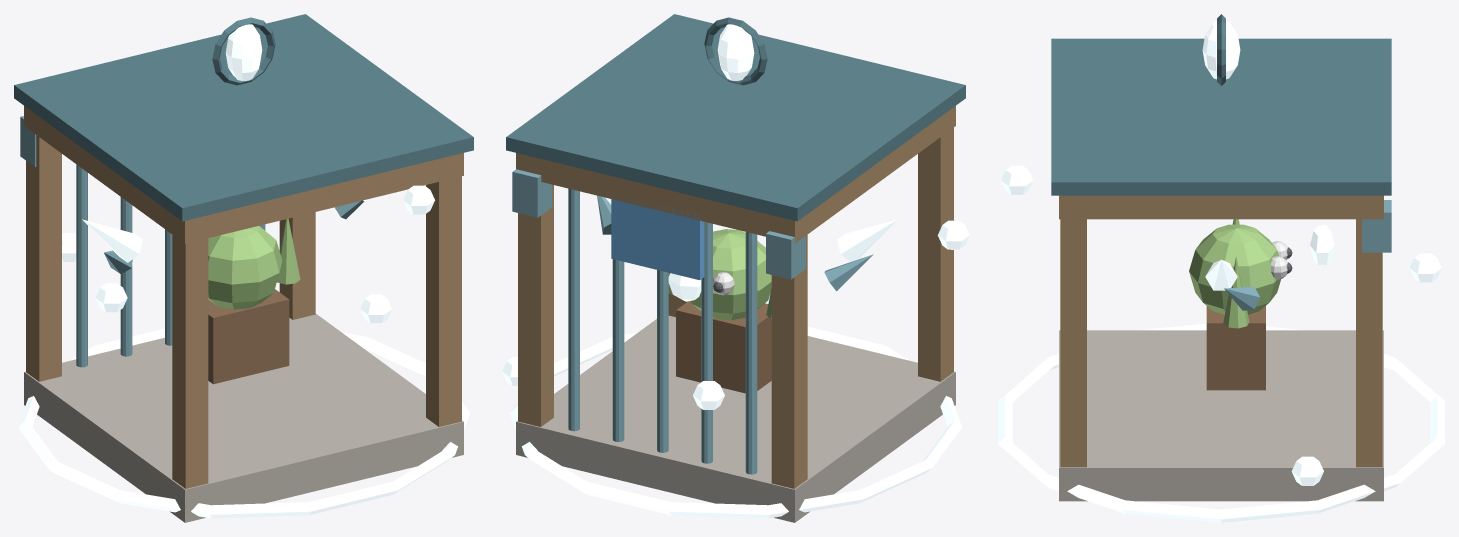
The model's file is evolved_goblin_cage.glb.
3 views of the same model, side by side, from view 1: azimuth 30°, elevation 25°; view 2: azimuth 150°, elevation 25°; view 3: azimuth 270°, elevation 25° (orthographic).
Visible parts, largest first — view 1: evolved_goblin_cage; view 2: evolved_goblin_cage; view 3: evolved_goblin_cage.
Part boxes in pixels (x1,y1,x2,y2): evolved_goblin_cage: (14, 14, 473, 522); evolved_goblin_cage: (502, 14, 969, 522); evolved_goblin_cage: (998, 14, 1444, 522).
Bounding box in the file's own units: 3.41 × 3.41 × 3.32.
